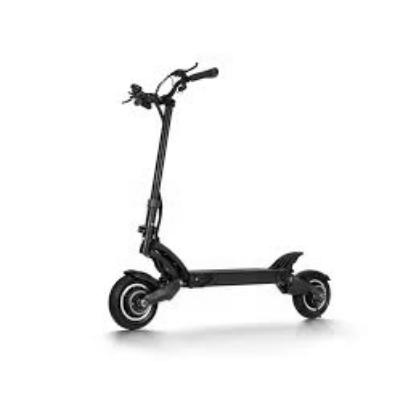bike: (107, 61, 332, 332)
